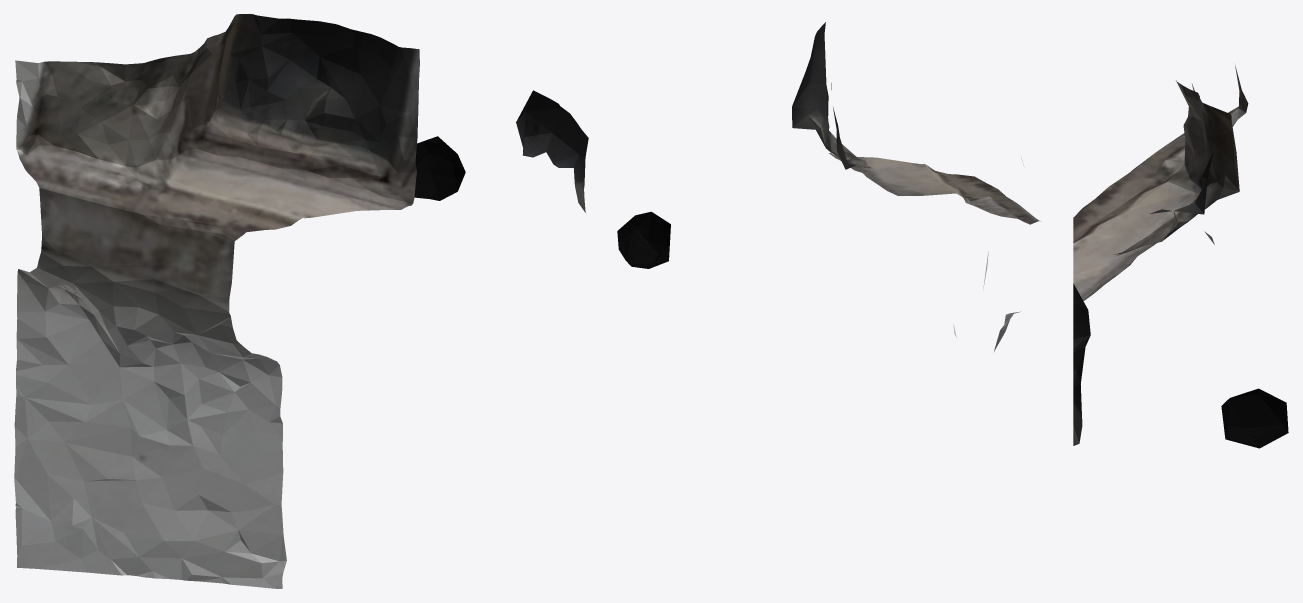
3 views of the same model, side by side, from view 1: azimuth 30°, elevation 25°; view 2: azimuth 150°, elevation 25°; view 3: azimuth 270°, elevation 25° (orthographic). The views are drawn at different scales.
Bounding box in the file's own units: 0.8373 × 0.8374 × 0.3325.
2 materials, 2 textured.
